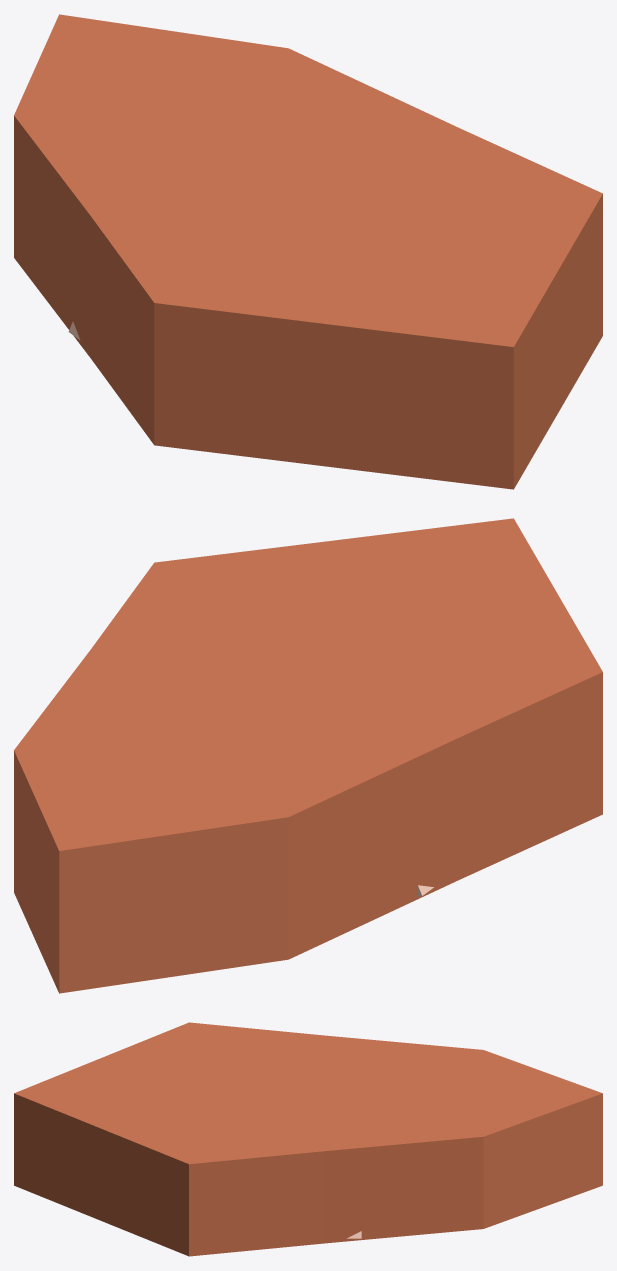
Rendered from flyer-shape-twin-fin-dart-v1.glb.
3 views of the same model, one above another, from view 1: azimuth 30°, elevation 25°; view 2: azimuth 150°, elevation 25°; view 3: azimuth 270°, elevation 25° (orthographic). The views are drawn at different scales.
Visible parts, largest first — view 1: Twin-Fin Dart; view 2: Twin-Fin Dart; view 3: Twin-Fin Dart.
Boxes of the visible parts, x1,y1,x2,y2 form: Twin-Fin Dart: (14, 14, 602, 489); Twin-Fin Dart: (14, 518, 602, 993); Twin-Fin Dart: (14, 1022, 602, 1256).
Size of the model in its own units: 1.45 by 0.4787 by 2.55.
